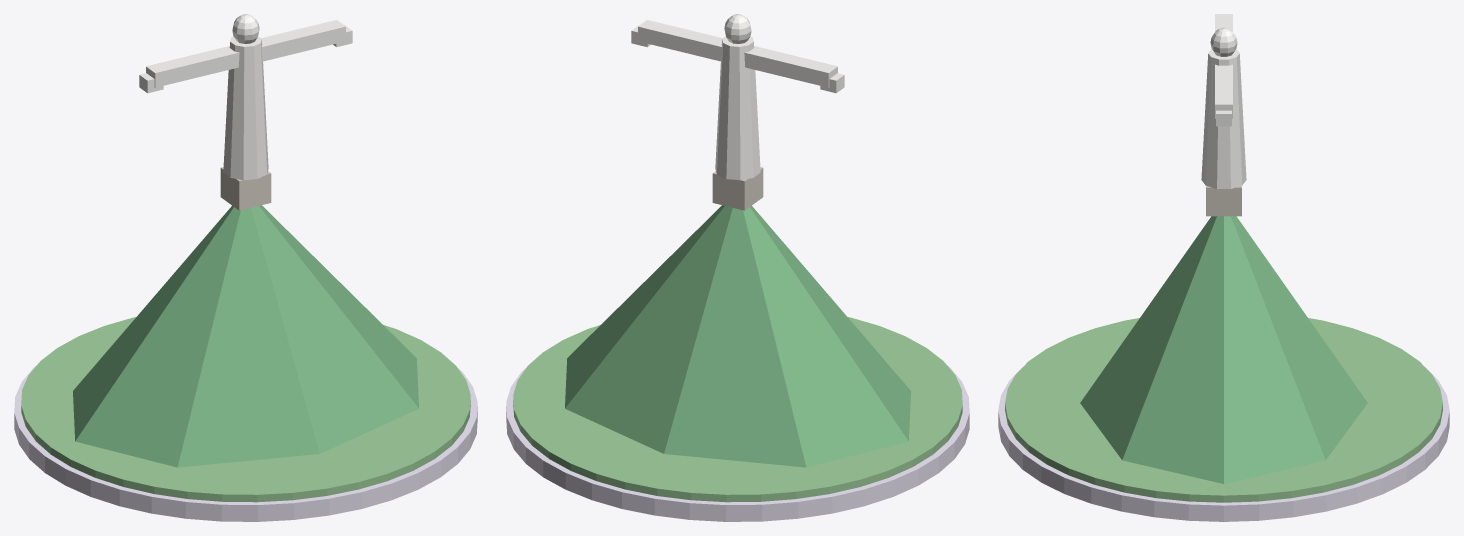
Rendered from isa.glb.
3 renders of one model, left to right at view 1: azimuth 30°, elevation 25°; view 2: azimuth 150°, elevation 25°; view 3: azimuth 270°, elevation 25°, orthographic. The views are drawn at different scales.
Visible parts, largest first — view 1: isa; view 2: isa; view 3: isa.
Part boxes in pixels (box(x1,y1,x2,y2)): isa: box(14, 14, 477, 521); isa: box(506, 14, 969, 521); isa: box(998, 14, 1449, 521).
Bounding box in the file's own units: 2 × 1.94 × 2.
Materials: 1 (1 with a texture image).
